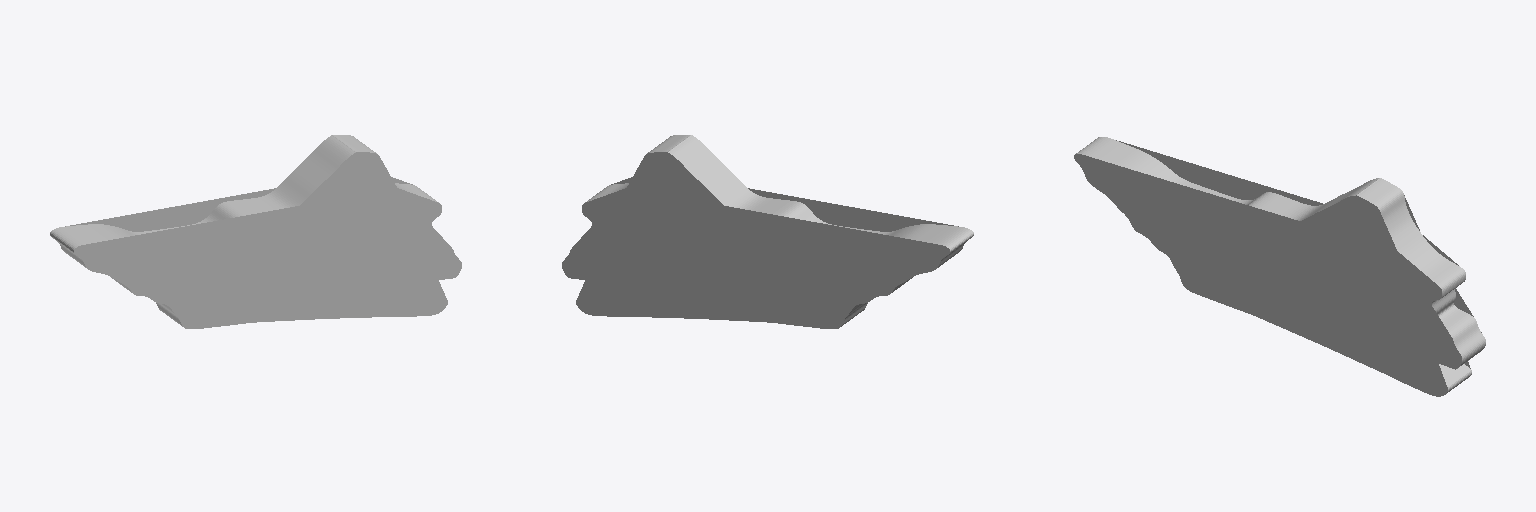
The picture shows the model from 3 angles: view 1: azimuth 30°, elevation 25°; view 2: azimuth 150°, elevation 25°; view 3: azimuth 330°, elevation 25°; orthographic projection.
Parts seen in each view (by area): view 1: 平面; view 2: 平面; view 3: 平面.
Boxes of the visible parts, <box> form: 平面: <box>50,135,461,328</box>; 平面: <box>562,135,973,328</box>; 平面: <box>1074,137,1485,396</box>.
Size of the model in its own units: 1.88 by 0.84 by 0.2.